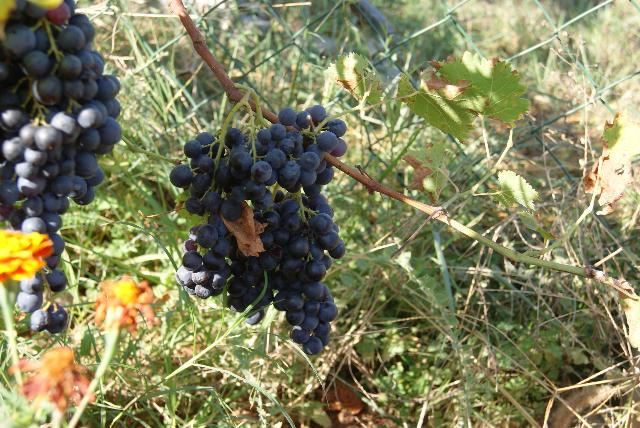grapes: (170, 111, 345, 355), (0, 0, 121, 291)
